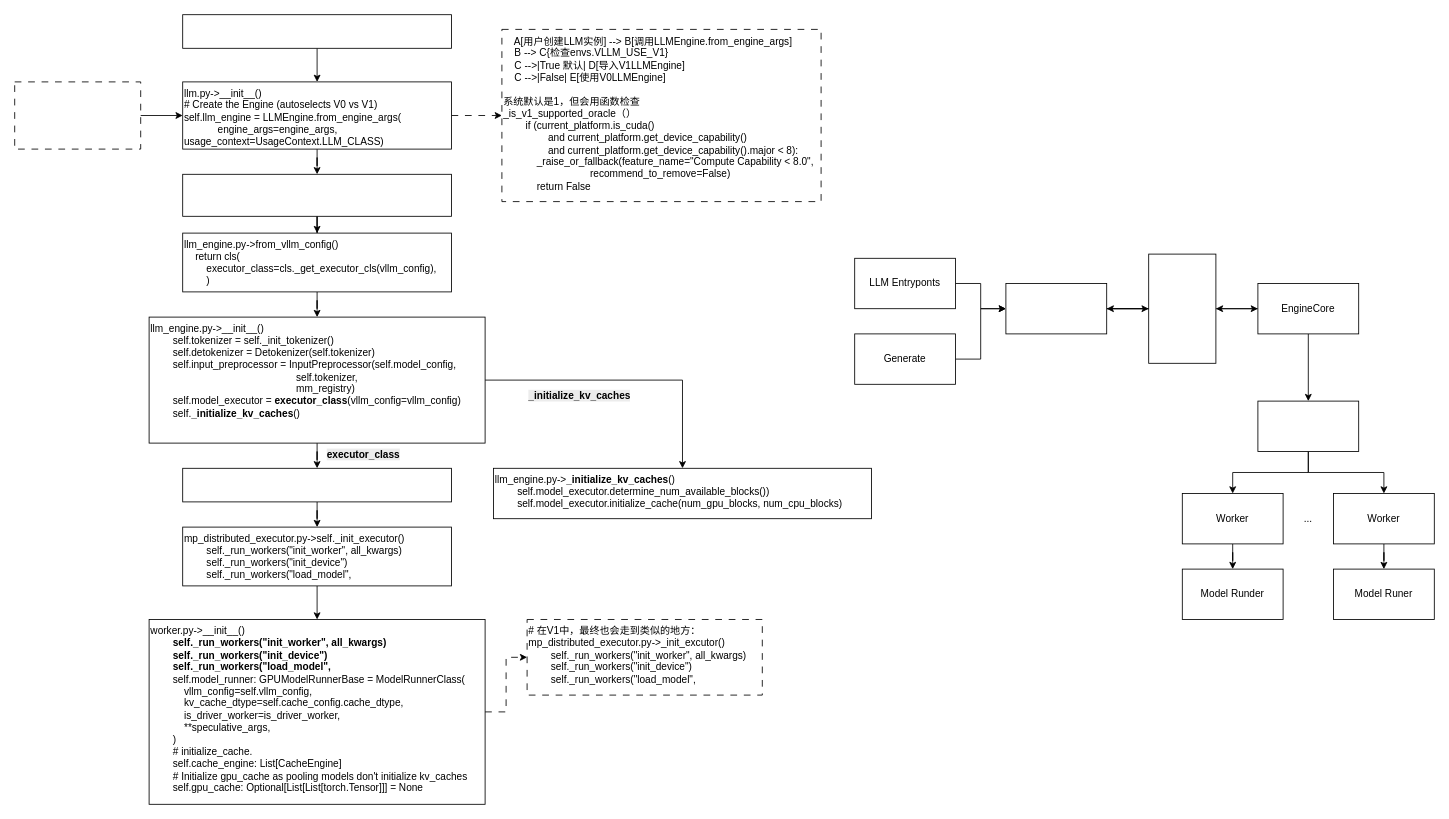
Image size: 1449x819. Some labels were removed from this diagram. The shapes that lost their labels are listed below. From the top down, each one's centre as x and y in pixels, then its label:
At (x=317, y=31): "test_vllm.py -> main() llm=LLM(model=model_path,)".
At (x=77, y=115): "VLLM的入口在 vllm/entrypoints下面".
At (x=317, y=194): "#V0 Path llm_engine.py->from_engine_args() return engine_cls.from_vllm_config()".
At (x=1056, y=308): "EngineCore Client".
At (x=1182, y=308): "ZeroMQ".
At (x=1308, y=426): "Executor".
At (x=317, y=484): "executor_base.py->__init__() self._init_executor()".
